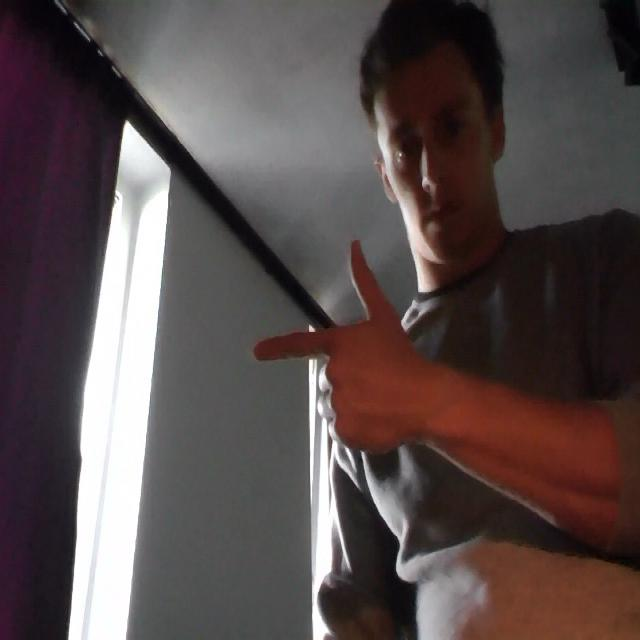left: (238, 235, 444, 466)
